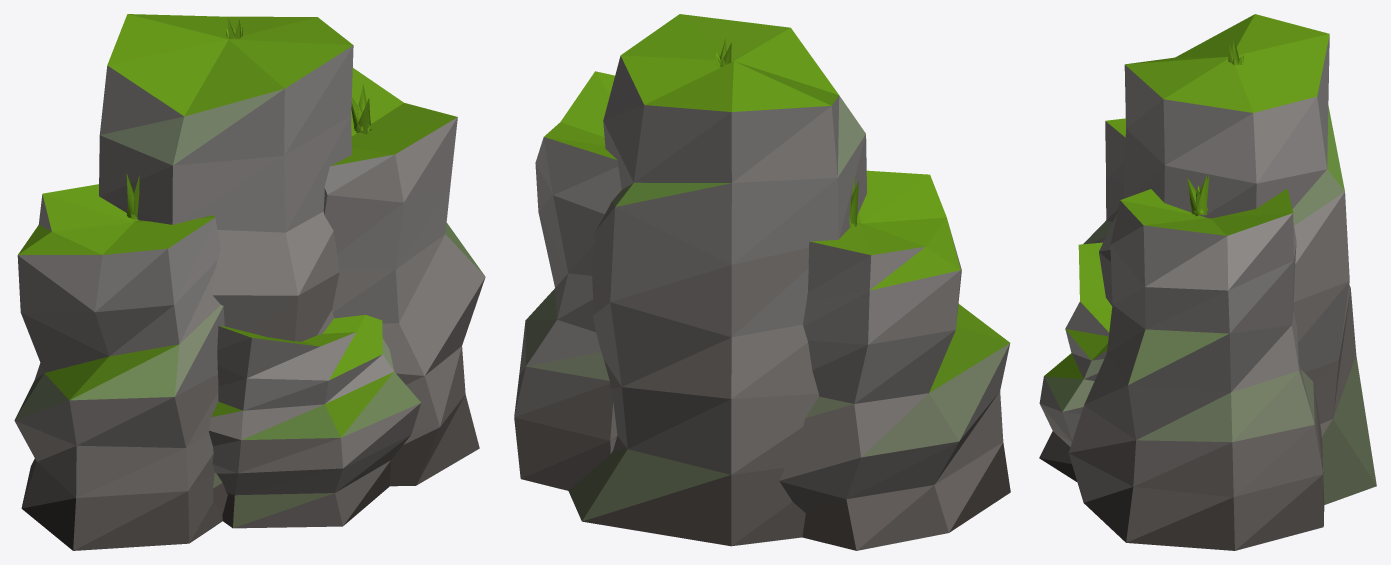
File: batu_cliff_limestone_97001.glb
3 views of the same model, side by side, from view 1: azimuth 30°, elevation 25°; view 2: azimuth 150°, elevation 25°; view 3: azimuth 270°, elevation 25° (orthographic). The views are drawn at different scales.
Visible parts, largest first — view 1: Tebing_Sungai_Curam; view 2: Tebing_Sungai_Curam; view 3: Tebing_Sungai_Curam.
Part boxes in pixels (<box>): Tebing_Sungai_Curam: <box>14,14,485,550</box>; Tebing_Sungai_Curam: <box>514,14,1010,550</box>; Tebing_Sungai_Curam: <box>1039,14,1376,550</box>.
Bounding box in the file's own units: 6.94 × 6.7 × 4.95.
